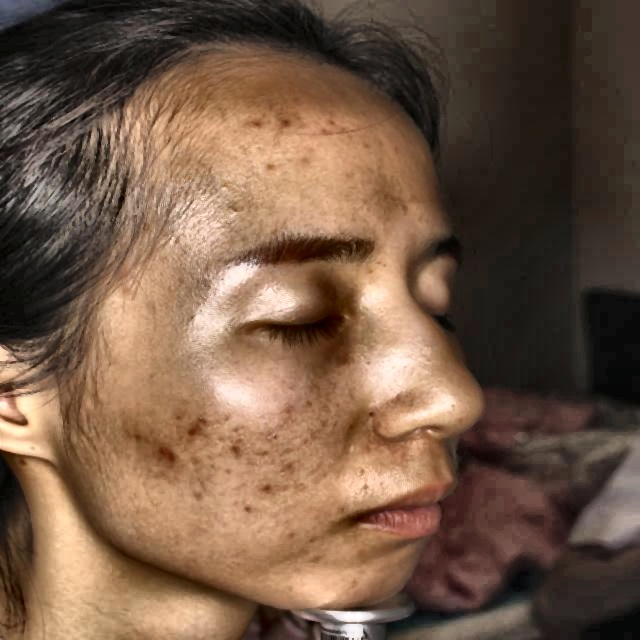pustule: (317, 112, 347, 142), (238, 110, 264, 139), (268, 112, 295, 136), (259, 475, 284, 499), (156, 435, 177, 461), (184, 421, 203, 438)
